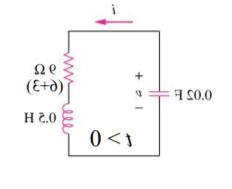inductor: (57, 98, 75, 136)
